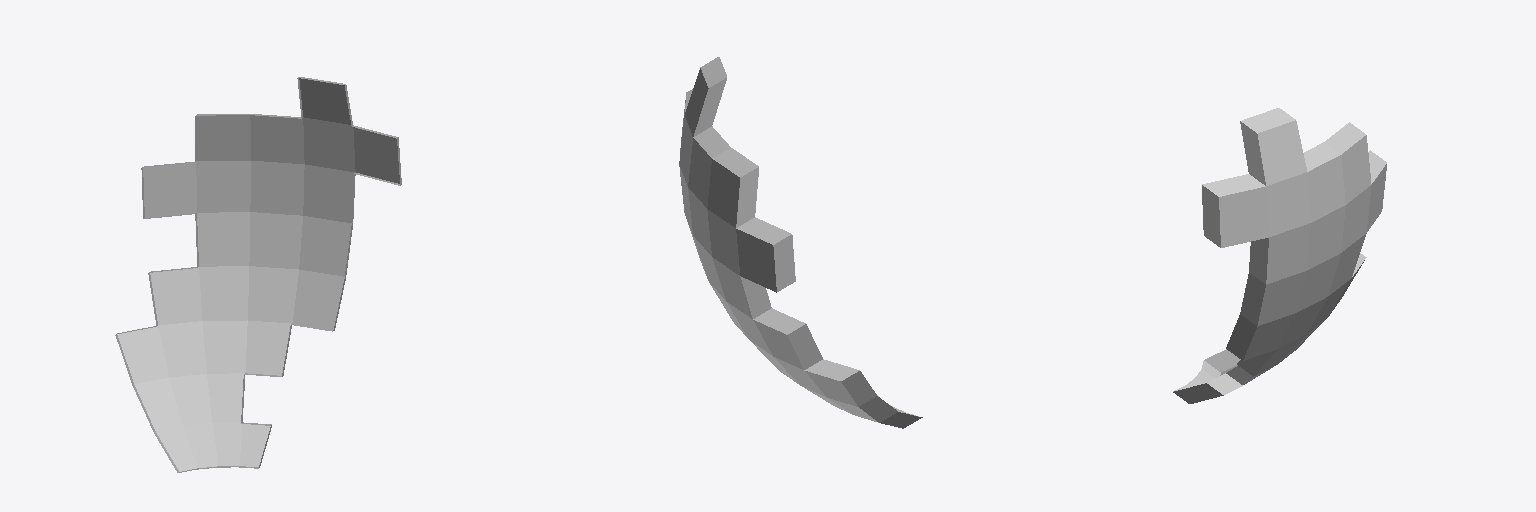
The model's file is cont3.obj.
3 views of the same model, side by side, from view 1: azimuth 30°, elevation 25°; view 2: azimuth 150°, elevation 25°; view 3: azimuth 270°, elevation 25° (orthographic).
Visible parts, largest first — view 1: Cont3; view 2: Cont3; view 3: Cont3.
Part boxes in pixels (left/top/right/bottom): Cont3: left=115, top=77, right=401, bottom=472; Cont3: left=679, top=57, right=922, bottom=428; Cont3: left=1173, top=108, right=1386, bottom=403.
Size of the model in its own units: 258 by 356 by 206.